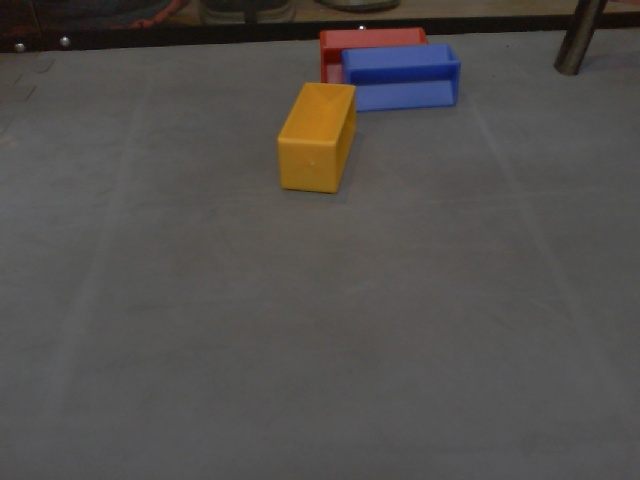BlueSample: (339, 42, 461, 113)
RedSample: (318, 27, 428, 81)
YellowSample: (274, 81, 357, 197)
